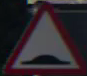Speed Breaker ahead: (13, 9, 71, 68)
